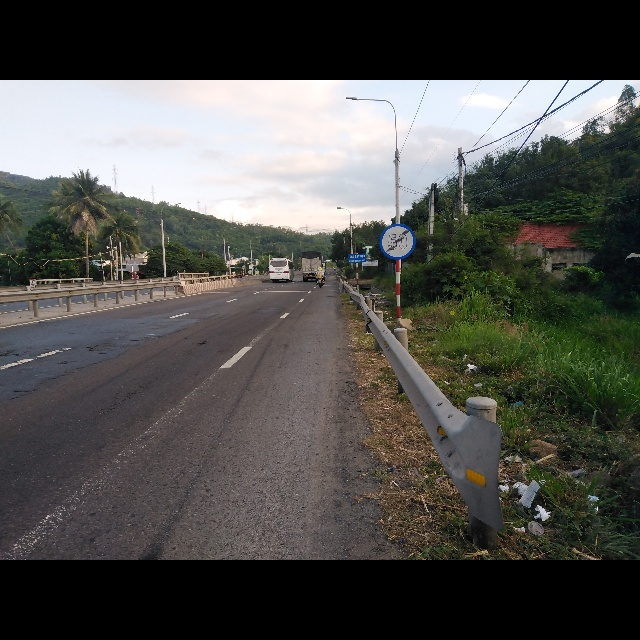Hết hạn chế tốc độ tối đa 50km/h: (378, 221, 415, 260)
